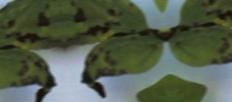Tomato leaf bacterial spot: (58, 0, 171, 99), (81, 71, 180, 102)
